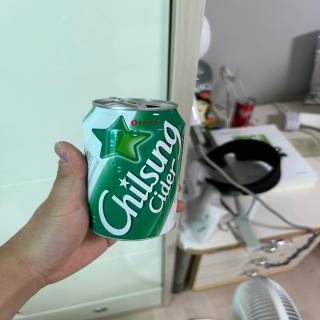chilsung: (77, 95, 188, 241)
